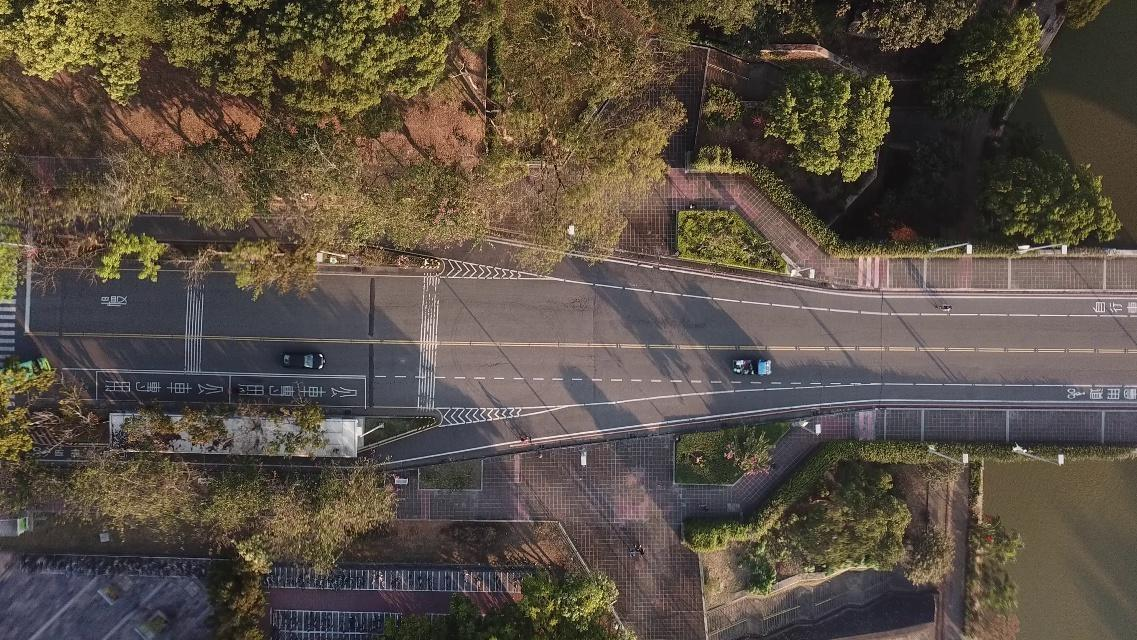Car: (278, 349, 332, 373)
